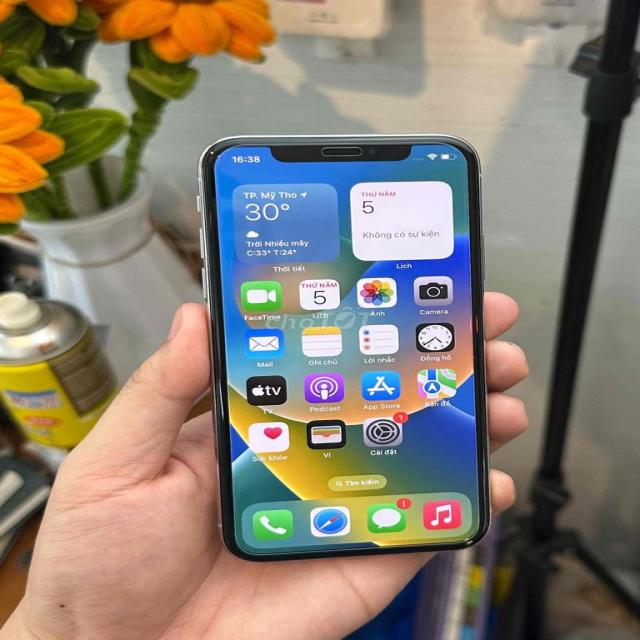gen_x_xs: (192, 129, 499, 566)
